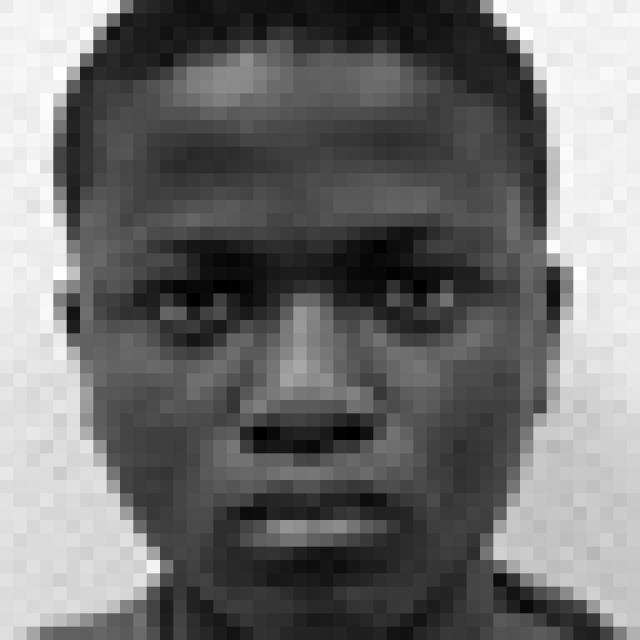neutral: (123, 219, 518, 575)
